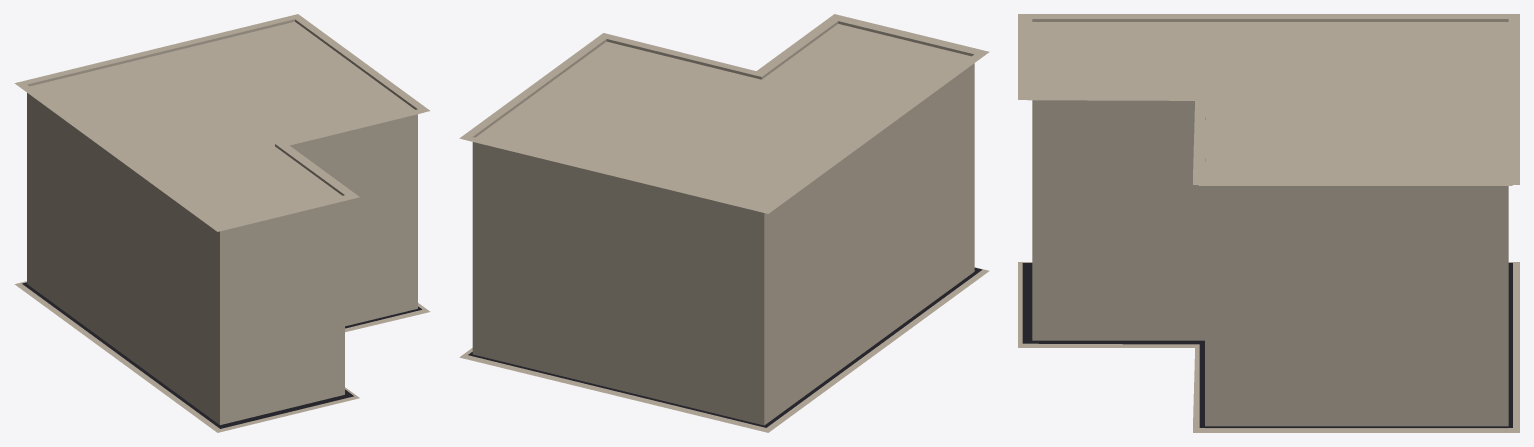
Rendered from HomeBuilding.fbx.
The picture shows the model from 3 angles, left to right: view 1: azimuth 30°, elevation 25°; view 2: azimuth 150°, elevation 25°; view 3: azimuth 270°, elevation 25°; orthographic projection. The views are drawn at different scales.
Parts seen in each view (by area): view 1: Walls, Plane, Floor; view 2: Walls, Plane, Floor; view 3: Walls, Plane, Floor.
Boxes of the visible parts, <box> form: Walls: <box>14,14,430,432</box>; Plane: <box>30,21,423,225</box>; Floor: <box>22,282,421,428</box>; Walls: <box>459,14,989,432</box>; Plane: <box>476,24,971,207</box>; Floor: <box>468,267,982,427</box>; Walls: <box>1018,14,1519,432</box>; Plane: <box>1027,22,1512,185</box>; Floor: <box>1022,263,1512,427</box>.
Size of the model in its own units: 2374 by 1606 by 2944.
